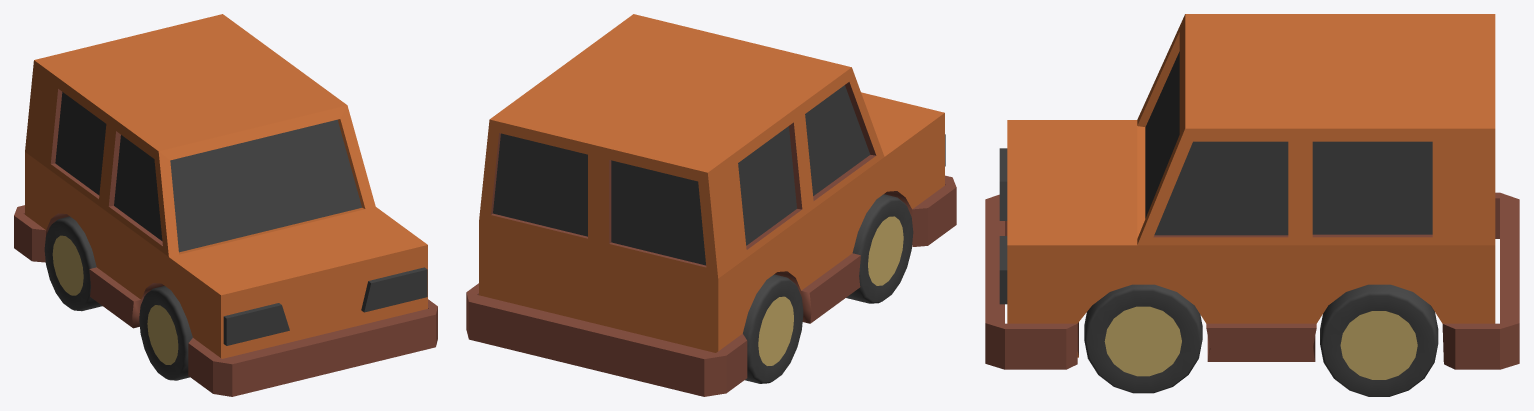
Rendered from car_1.FBX.
The picture shows the model from 3 angles, left to right: view 1: azimuth 30°, elevation 25°; view 2: azimuth 150°, elevation 25°; view 3: azimuth 270°, elevation 25°; orthographic projection. The views are drawn at different scales.
Parts seen in each view (by area): view 1: chassis, windows, wheel2, wheel1; view 2: chassis, windows, wheel1, wheel2; view 3: chassis, windows, wheel4, wheel3.
Boxes of the visible parts, x1=… form: chassis: x1=25, y1=14, x2=427, y2=358; windows: x1=14, y1=89, x2=437, y2=396; wheel2: x1=139, y1=286, x2=192, y2=380; wheel1: x1=44, y1=216, x2=102, y2=311; chassis: x1=479, y1=14, x2=944, y2=352; windows: x1=466, y1=82, x2=956, y2=396; wheel1: x1=743, y1=274, x2=803, y2=383; wheel2: x1=846, y1=194, x2=913, y2=303; chassis: x1=1007, y1=14, x2=1495, y2=357; windows: x1=985, y1=51, x2=1519, y2=369; wheel4: x1=1320, y1=284, x2=1438, y2=396; wheel3: x1=1084, y1=284, x2=1202, y2=393.
Size of the model in its own units: 747 by 669 by 1237.
